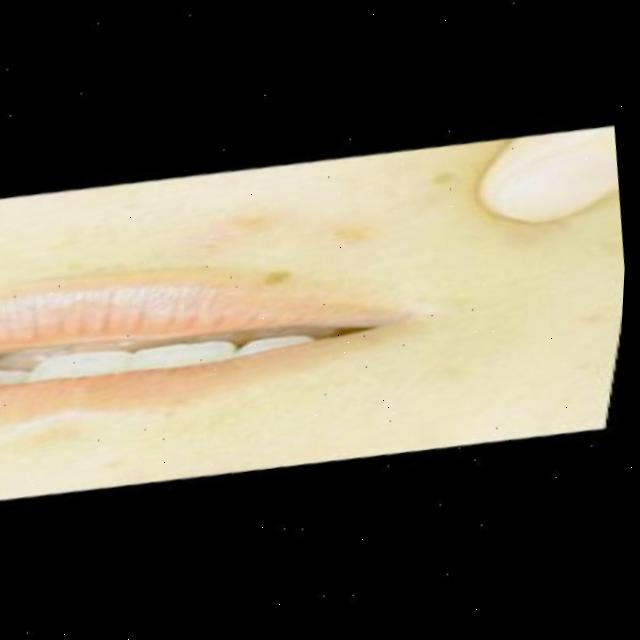Acne: (231, 150, 439, 310)
